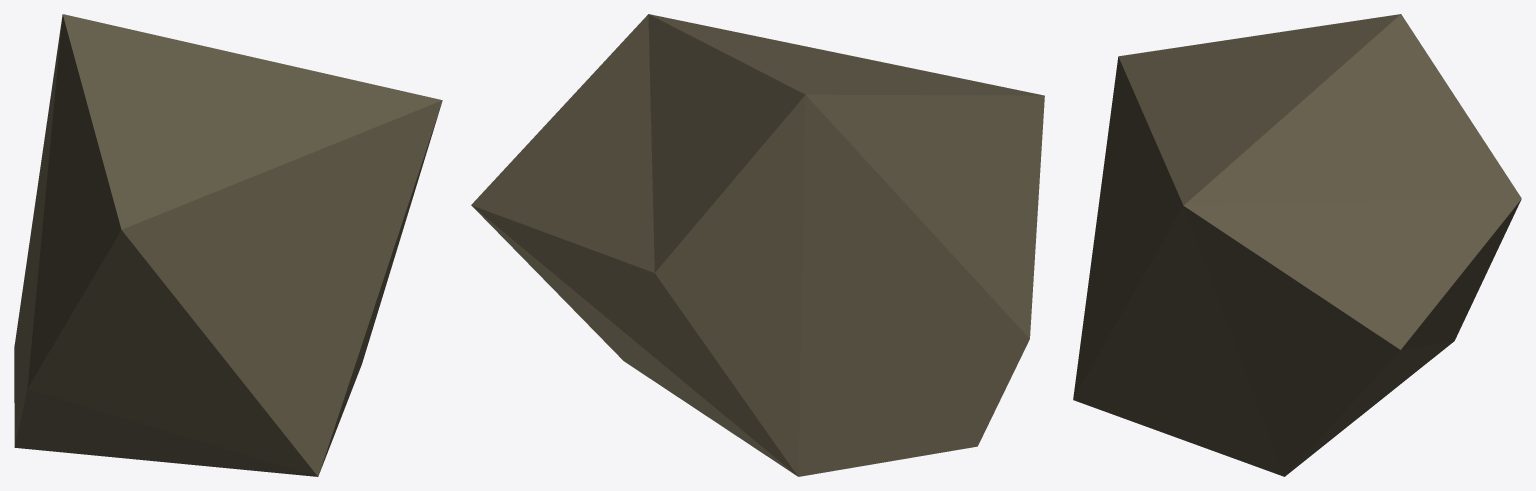
File: Rock-C05.fbx
3 renders of one model, left to right at view 1: azimuth 30°, elevation 25°; view 2: azimuth 150°, elevation 25°; view 3: azimuth 270°, elevation 25°, orthographic. The views are drawn at different scales.
Parts seen in each view (by area): view 1: Rock-C05; view 2: Rock-C05; view 3: Rock-C05.
Part boxes in pixels (bbox=[...]): Rock-C05: bbox=[14, 14, 442, 476]; Rock-C05: bbox=[471, 14, 1044, 476]; Rock-C05: bbox=[1073, 14, 1521, 476].
Bounding box in the file's own units: 33.82 × 25.79 × 29.91.
